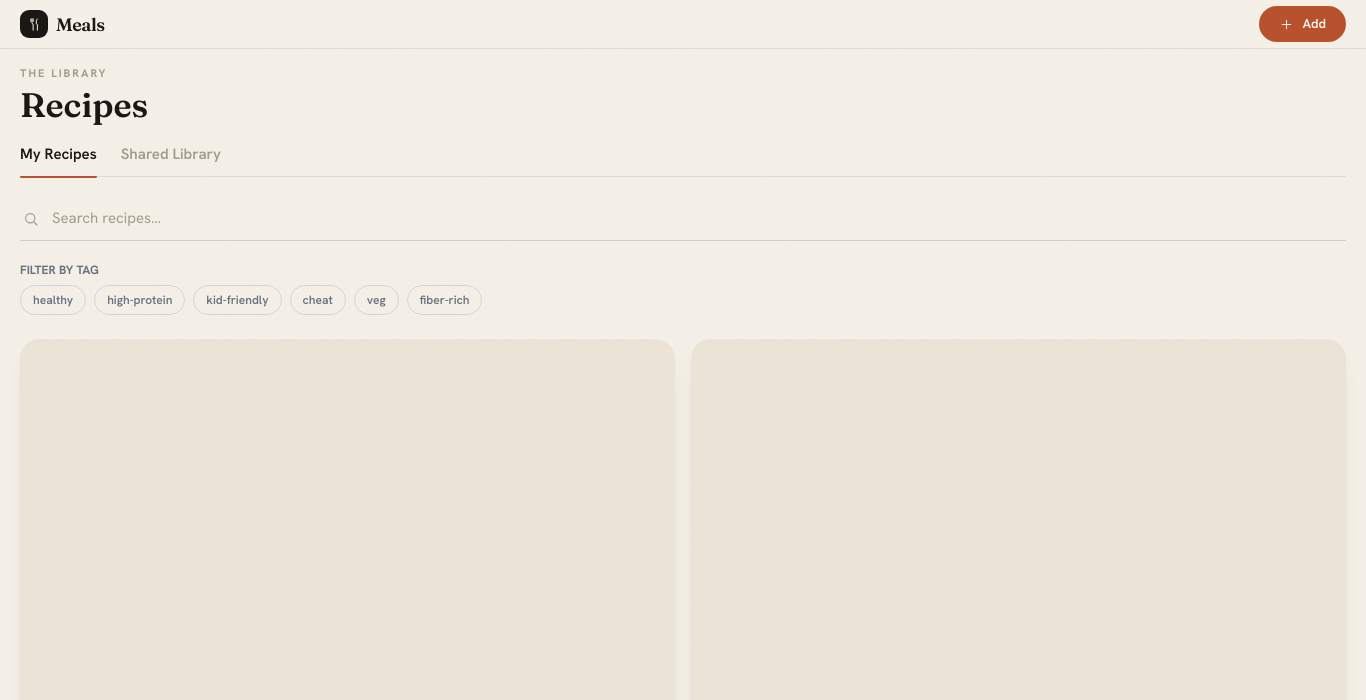
Recipes library screen › shows a no-match message when search matches nothing
Type "zzzzz" into the search field labelled "Search recipes" at (683, 219), box 20,197 -> 1346,241
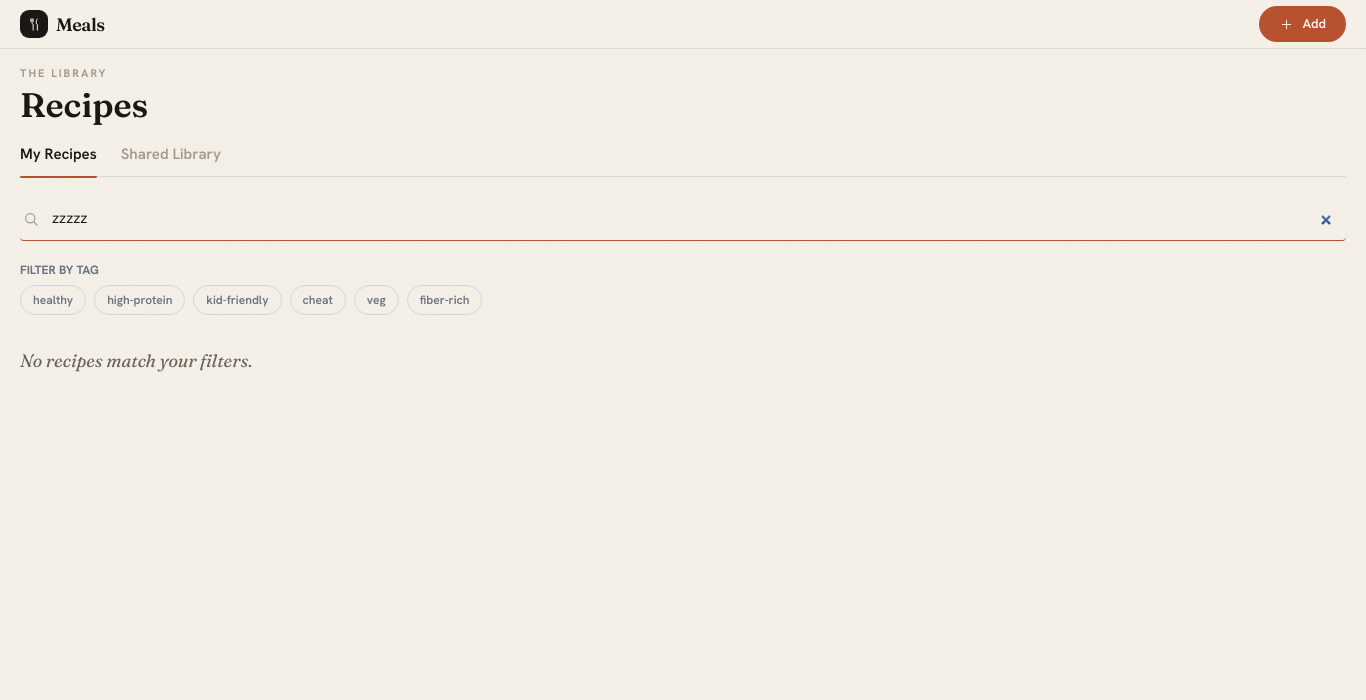
Now the text "No recipes match your filters." is shown, box 20,349 -> 252,372
